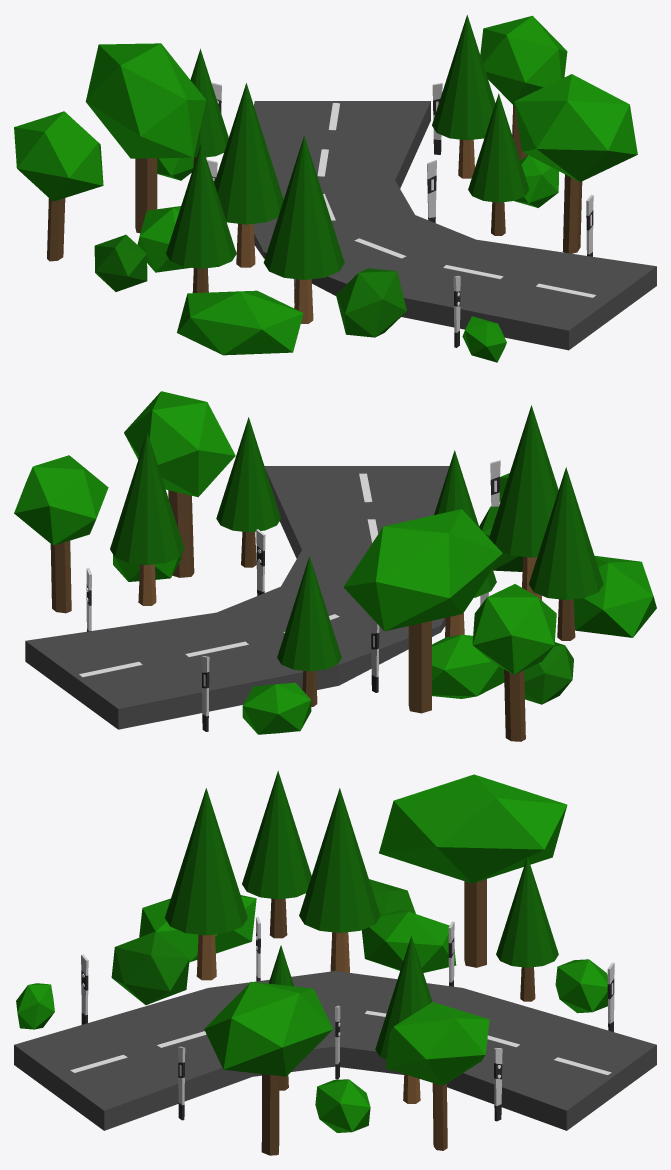
File: street2_02_5.fbx
3 views of the same model, one above another, from view 1: azimuth 30°, elevation 25°; view 2: azimuth 150°, elevation 25°; view 3: azimuth 270°, elevation 25° (orthographic). The views are drawn at different scales.
Parts seen in each view (by area): view 1: street02.001, tree02, tree02.001, nadelTree.004, tree02.003, bush, nadelTree.005, tree02.002, nadelTree.002, nadelTree.001, nadelTree.006, bush.006 (+7 smaller); view 2: street02.001, tree02, tree02.001, tree02.002, tree02.003, nadelTree.004, nadelTree.002, nadelTree.001, bush, nadelTree.006, nadelTree.003, bush.001 (+8 smaller); view 3: street02.001, tree02, tree02.001, nadelTree.004, tree02.002, nadelTree.005, nadelTree.002, nadelTree.003, bush.006, bush.001, nadelTree.001, bush (+6 smaller).
Boxes of the visible parts, box(x1,y1,x2,y2) form: street02.001: box(253, 101, 656, 350); tree02: box(85, 43, 206, 233); tree02.001: box(514, 74, 637, 253); nadelTree.004: box(263, 136, 344, 323); tree02.003: box(14, 111, 103, 261); bush: box(177, 290, 303, 355); nadelTree.005: box(214, 83, 283, 267); tree02.002: box(480, 15, 567, 160); nadelTree.002: box(166, 143, 236, 292); nadelTree.001: box(432, 15, 495, 178); nadelTree.006: box(468, 93, 529, 235); bush.006: box(336, 268, 406, 337); street02.001: box(25, 466, 449, 729); tree02: box(343, 509, 502, 713); tree02.001: box(124, 391, 235, 577); tree02.002: box(14, 455, 108, 613); tree02.003: box(472, 584, 556, 741); nadelTree.004: box(489, 405, 558, 600); nadelTree.002: box(529, 467, 603, 640); nadelTree.001: box(110, 432, 184, 605); bush: box(573, 556, 656, 637); nadelTree.006: box(216, 417, 280, 567); nadelTree.003: box(277, 556, 341, 706); bush.001: box(432, 634, 504, 698); street02.001: box(14, 971, 656, 1130); tree02: box(379, 774, 567, 967); tree02.001: box(204, 981, 332, 1155); nadelTree.004: box(165, 788, 247, 980); tree02.002: box(385, 1002, 489, 1150); nadelTree.005: box(299, 788, 380, 972); nadelTree.002: box(242, 770, 311, 938); nadelTree.003: box(496, 856, 558, 1001); bush.006: box(111, 931, 189, 1004); bush.001: box(361, 910, 456, 972); nadelTree.001: box(375, 936, 432, 1103); bush: box(139, 895, 256, 962).
Size of the model in its own units: 96.08 by 37.38 by 99.52.
